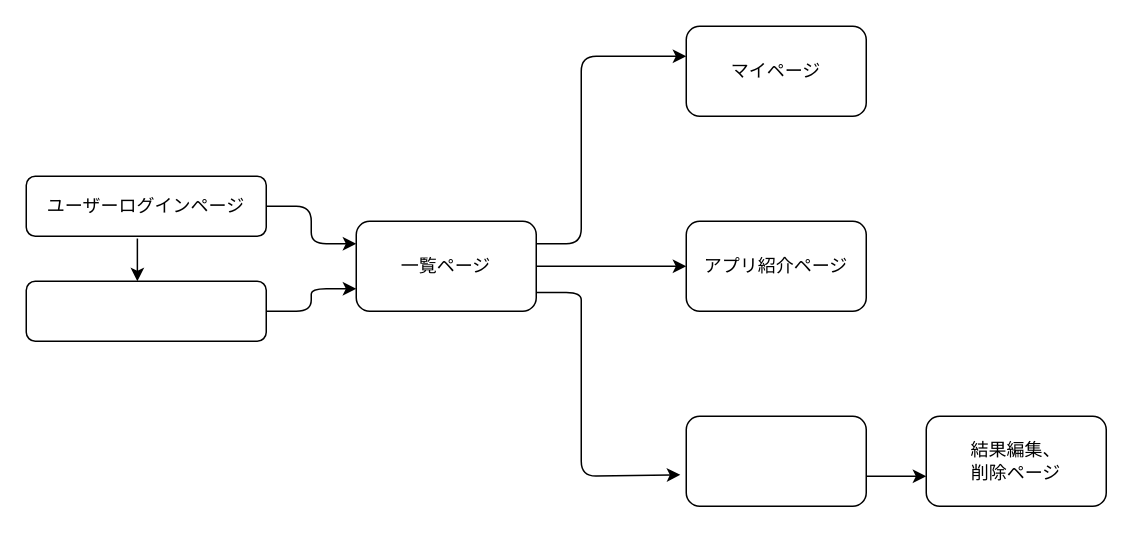
The diagram is 1133 pixels wide and 533 high, and some of its shapes have lost their labels. The shapes that lost their labels are listed below. From the top down, each one's centre as x and y in pixels, then its label:
(145,310): ユーザー新規登録ページ
(775,460): 結果表示ページ
